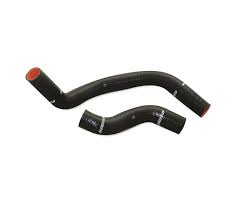radiator_hose: (26, 67, 210, 116), (83, 106, 184, 135)
